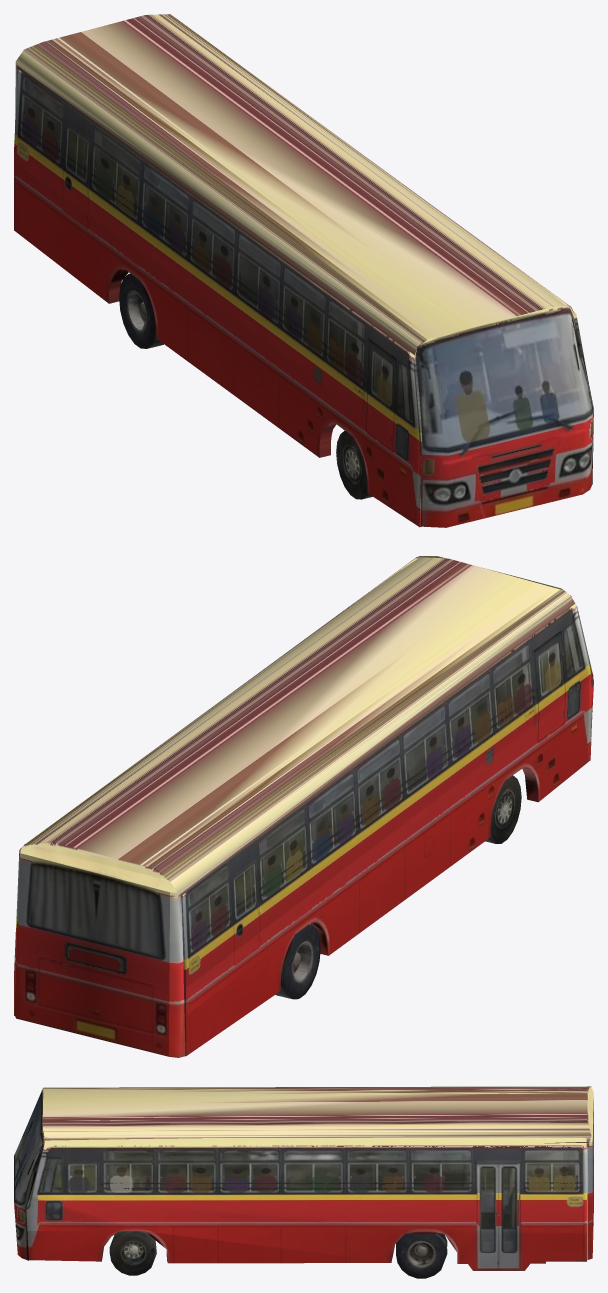
The model's file is ksrtc-real.glb.
The picture shows the model from 3 angles, top to bottom: view 1: azimuth 30°, elevation 25°; view 2: azimuth 150°, elevation 25°; view 3: azimuth 270°, elevation 25°; orthographic projection. The views are drawn at different scales.
Visible parts, largest first — view 1: Object_6, Object_10; view 2: Object_6, Object_10; view 3: Object_6, Object_10.
Part boxes in pixels (x1,y1,x2,y2): Object_6: (14, 14, 593, 527); Object_10: (119, 273, 425, 499); Object_6: (14, 556, 593, 1057); Object_10: (275, 775, 521, 999); Object_6: (14, 1086, 593, 1270); Object_10: (109, 1231, 447, 1278).
Bounding box in the file's own units: 0.2306 × 0.2689 × 0.9676.
3 materials, 2 textured.
